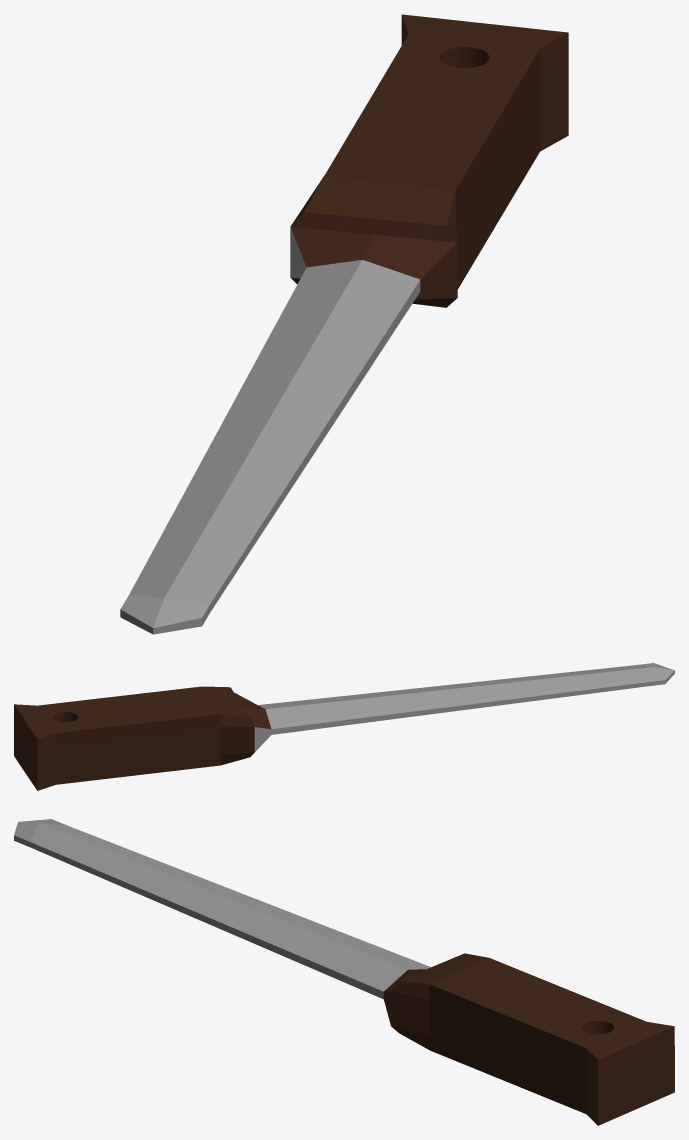
3 views of the same model, one above another, from view 1: azimuth 30°, elevation 25°; view 2: azimuth 150°, elevation 25°; view 3: azimuth 270°, elevation 25° (orthographic). The views are drawn at different scales.
Parts seen in each view (by area): view 1: Plane.024; view 2: Plane.024; view 3: Plane.024.
Boxes of the visible parts, x1,y1,x2,y2 form: Plane.024: (120, 14, 568, 634); Plane.024: (14, 663, 674, 790); Plane.024: (14, 819, 674, 1125).
Bounding box in the file's own units: 61.33 × 7 × 62.7.
